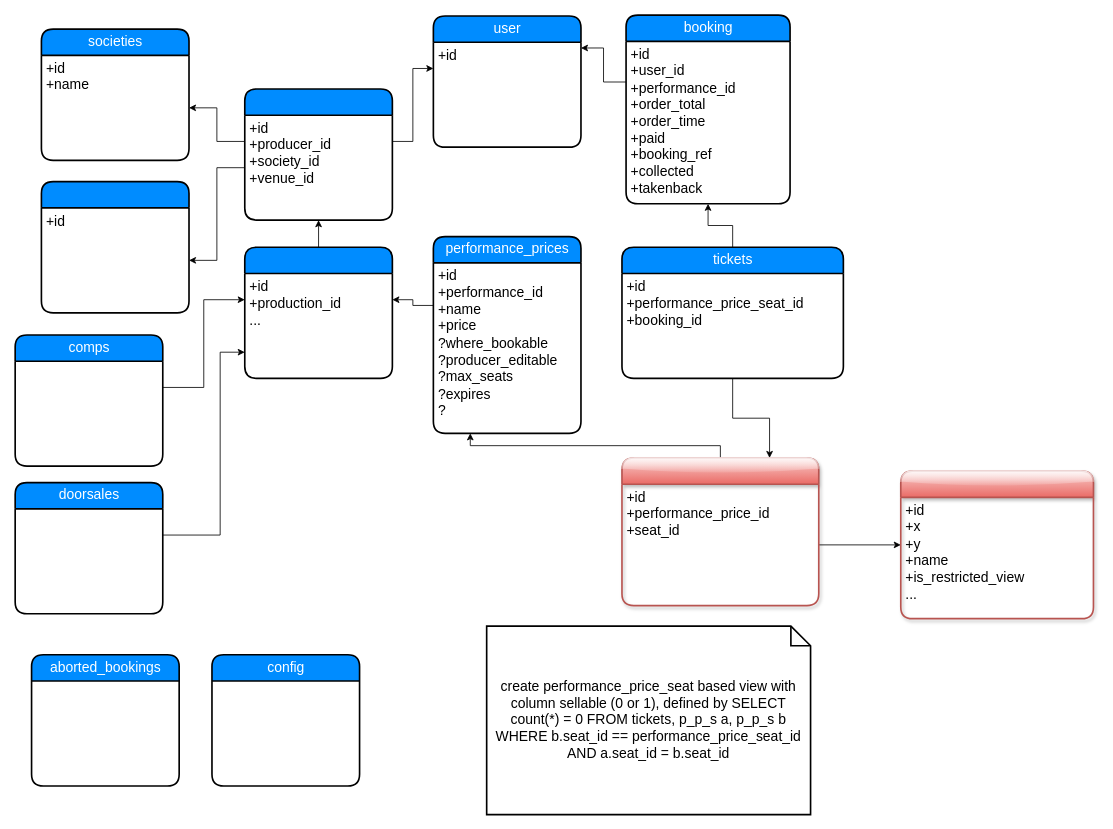
The diagram is 1113 pixels wide and 829 high, and some of its shapes have lost their labels. Here are the shapes that lost their labels. From the top down, the box of each, then its label:
(244, 88, 393, 221): production
(40, 180, 189, 313): venues
(244, 246, 393, 379): performance
(617, 453, 824, 612): performance_price_seat
(896, 467, 1099, 625): seats
